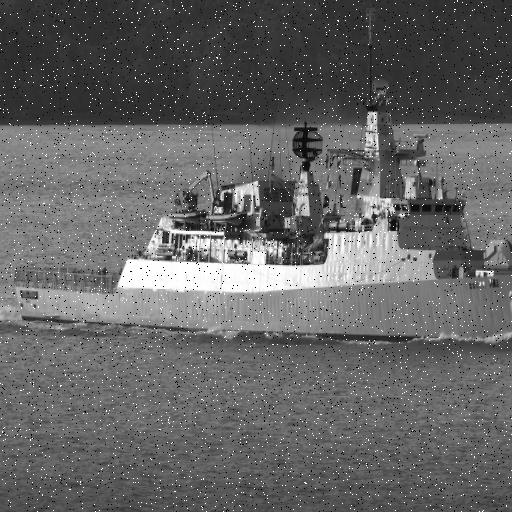Fragata: (9, 2, 512, 350)
